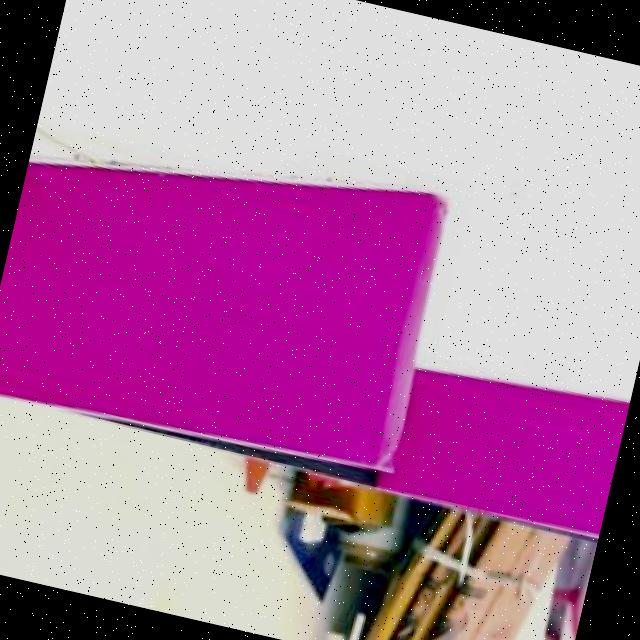xparking: (0, 144, 444, 474), (396, 367, 626, 538)
